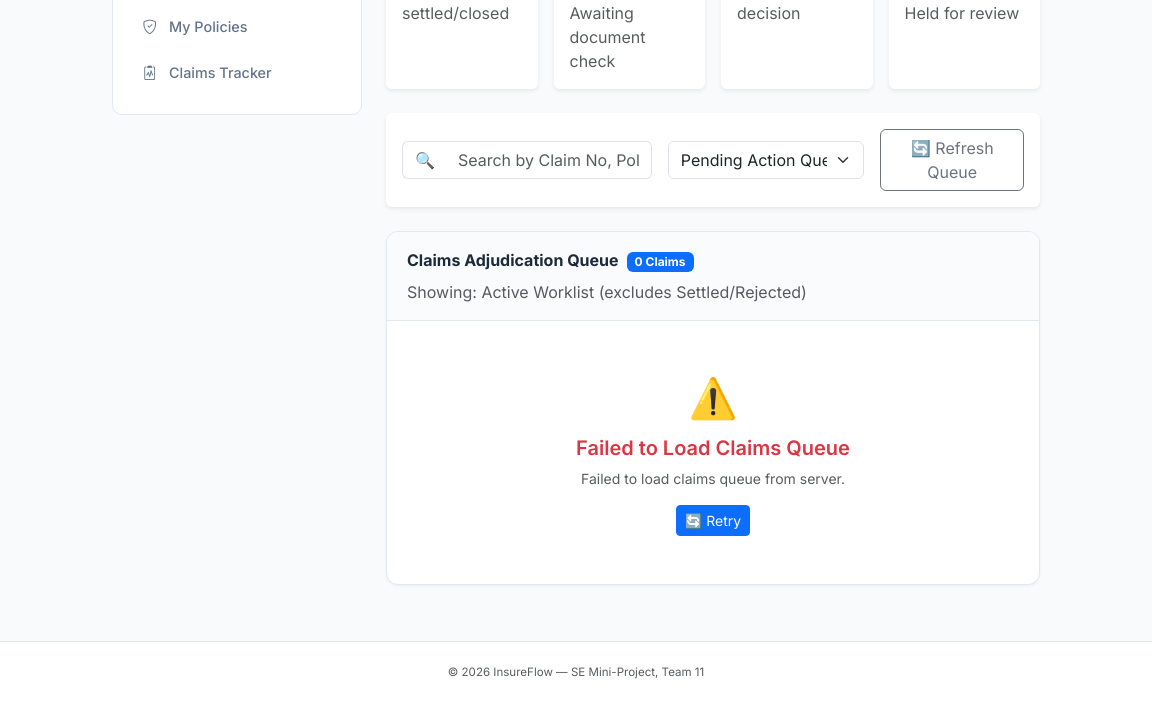
Test: ClaimsOfficerDashboardView (INS-F-014, TC-Clm-03, P1-12) › displays error state and no claim rows when API fails to load claims
This screenshot has width=1152, height=701.
(page scrolled)
Expected: the element with test id "claims-error-state" is shown, [576,374,850,536]
Expected: the text "CLM-2026-000101" is not shown
Click the button with test id "retry-btn": (713, 520) [676,505,750,536]
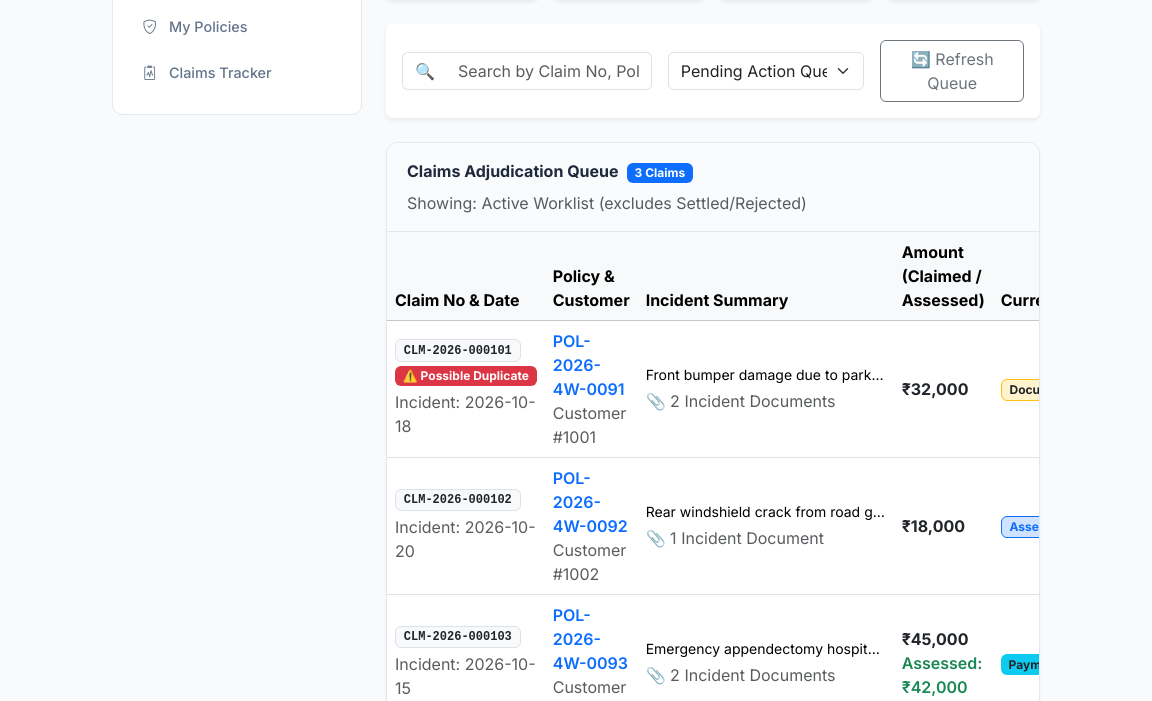
Expected: the text "CLM-2026-000101" is shown, [395,339,521,362]
